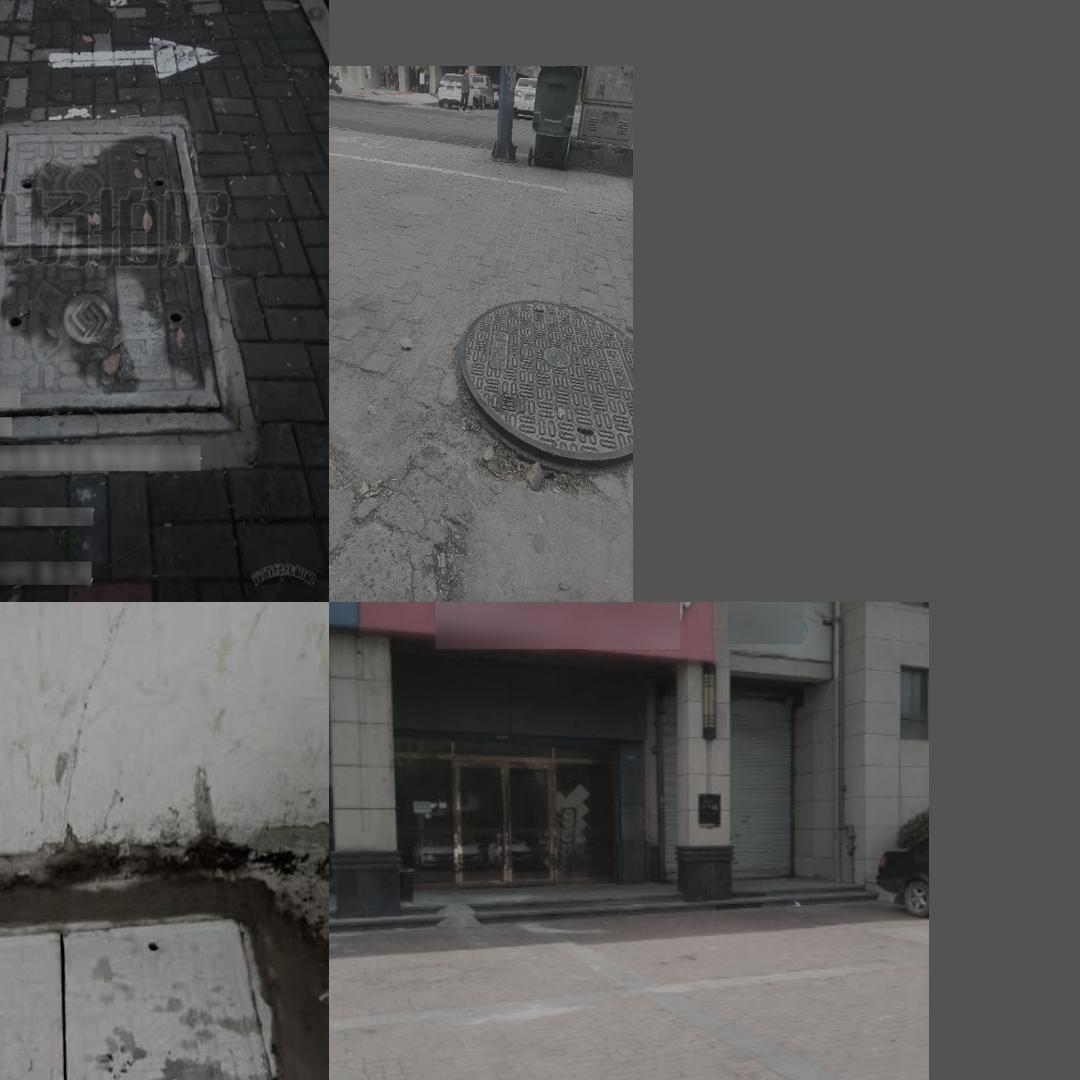good: (0, 124, 237, 440), (0, 925, 300, 1080), (459, 299, 633, 475)
